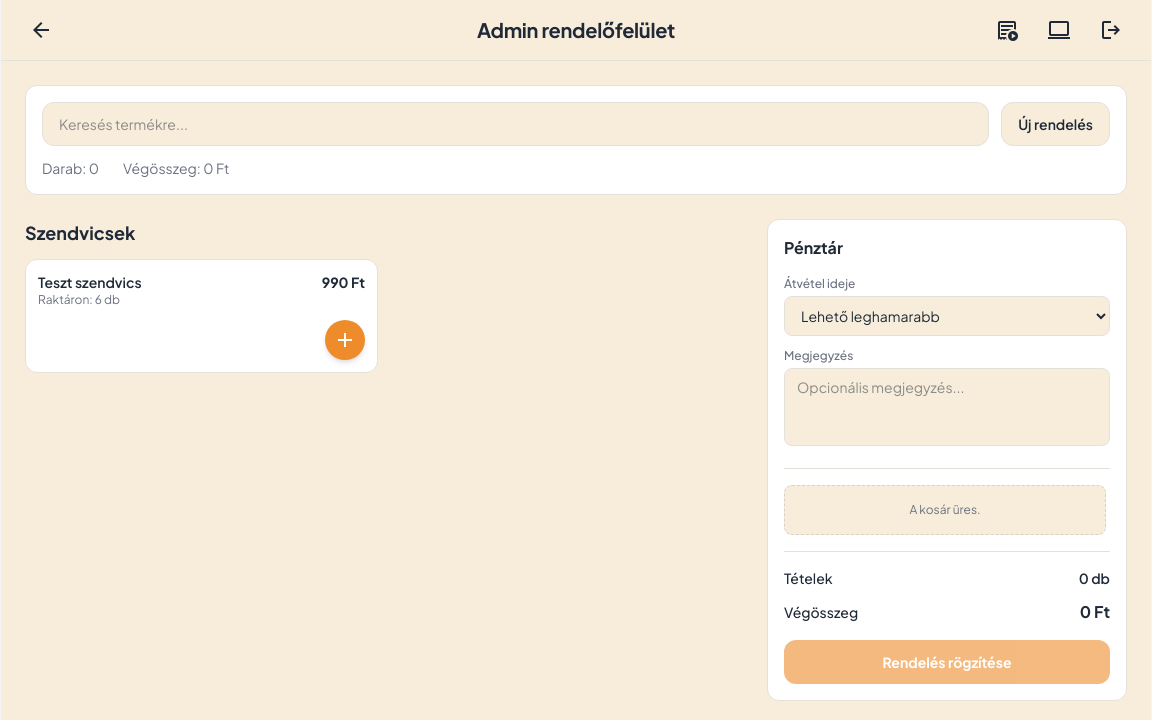
admin pos page › renders pos layout and supports search filtering
Check: the text "Admin rendelőfelület" is shown, box [477,17,675,42]
Check: the heading "Pénztár" is shown, box [784,237,843,258]
Type "nincs" into the field with placeholder "Keresés termékre..." at coordinates (516, 124), box [42,102,989,146]
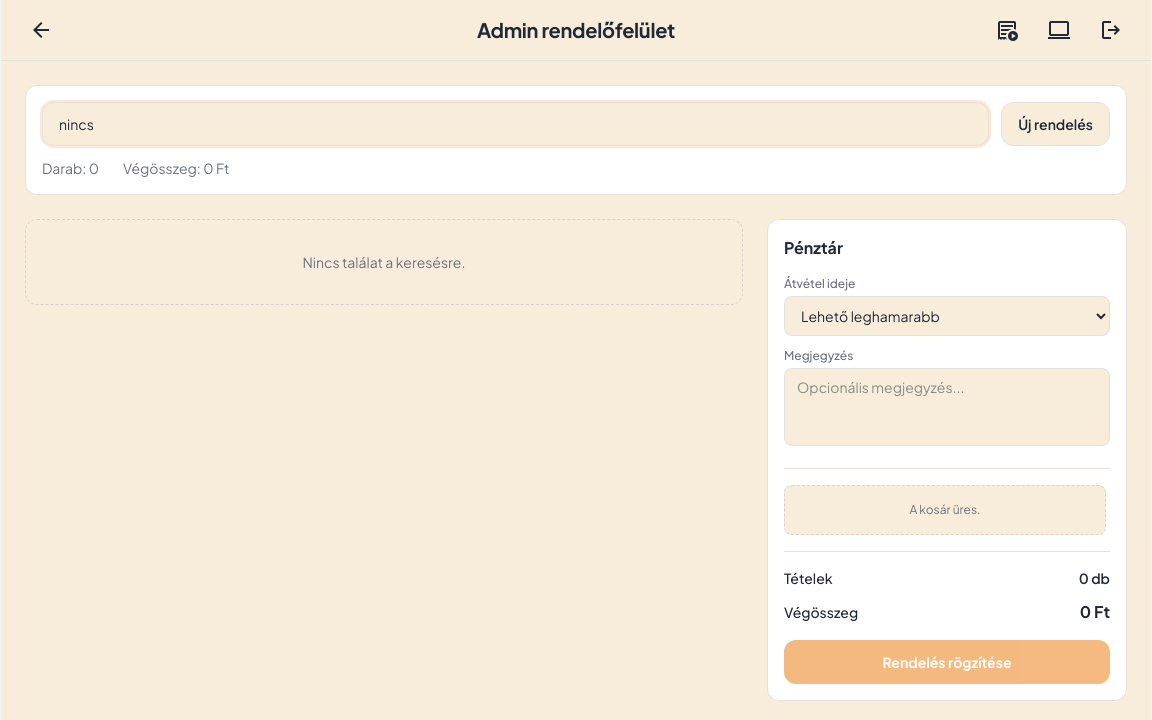
Check: the text "Nincs találat a keresésre." is shown, box [25,219,743,305]
